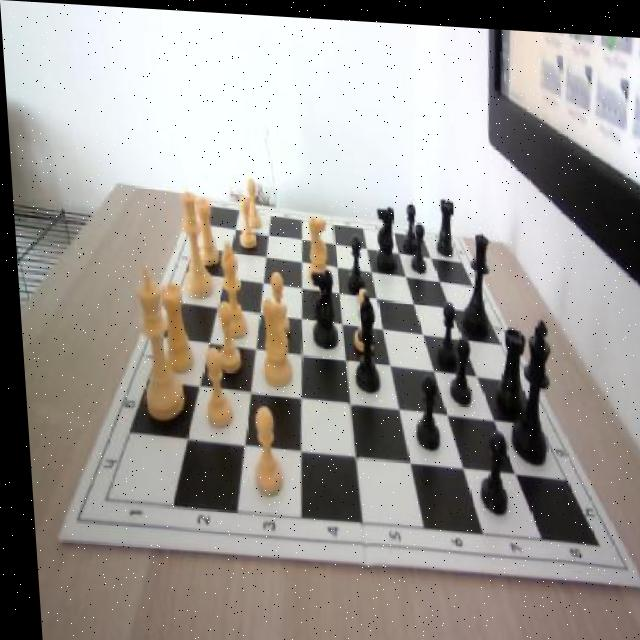bishop: (346, 289, 375, 388)
black-bishop: (500, 313, 552, 460)
black-king: (304, 263, 335, 345), (368, 194, 397, 271), (399, 198, 417, 249)
black-knight: (471, 424, 504, 509), (408, 367, 438, 445), (441, 332, 468, 402), (430, 295, 455, 363), (342, 231, 364, 289), (406, 217, 424, 271), (399, 198, 417, 249)
black-pawn: (453, 225, 492, 332)
black-queen: (488, 319, 524, 409), (432, 194, 454, 252)
black-rook: (212, 238, 243, 337)
white-bishop: (130, 258, 181, 419)
white-king: (248, 285, 293, 388), (303, 209, 330, 282)
white-knight: (242, 403, 279, 494), (194, 342, 230, 428), (207, 297, 239, 374), (259, 269, 287, 337), (347, 282, 372, 349), (240, 178, 261, 228), (234, 193, 254, 244)
white-pawn: (174, 188, 212, 295)
white-queen: (156, 276, 190, 371), (189, 193, 216, 267)
